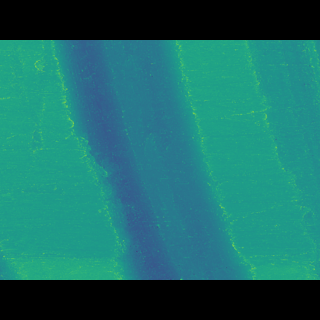Loch: (48, 70, 261, 249), (244, 70, 320, 222)
